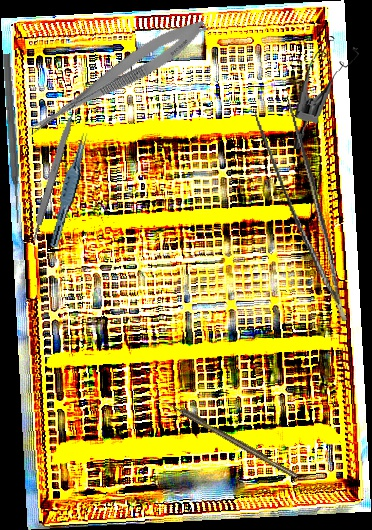Hook Surgical: (161, 396, 298, 480)
Micro Scissor: (21, 10, 212, 148)
Pusher: (0, 53, 24, 224)
Scalpel Handle: (27, 111, 76, 244)
Speculum: (291, 33, 361, 154)
Tissue Forceps: (252, 94, 348, 330), (48, 130, 92, 250)
